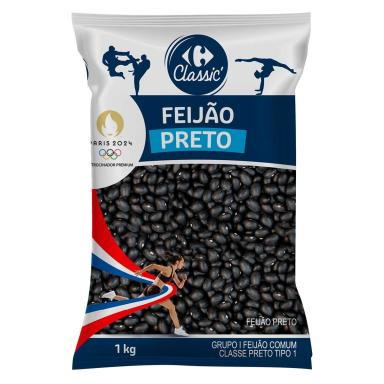beans package: (73, 14, 311, 368)
